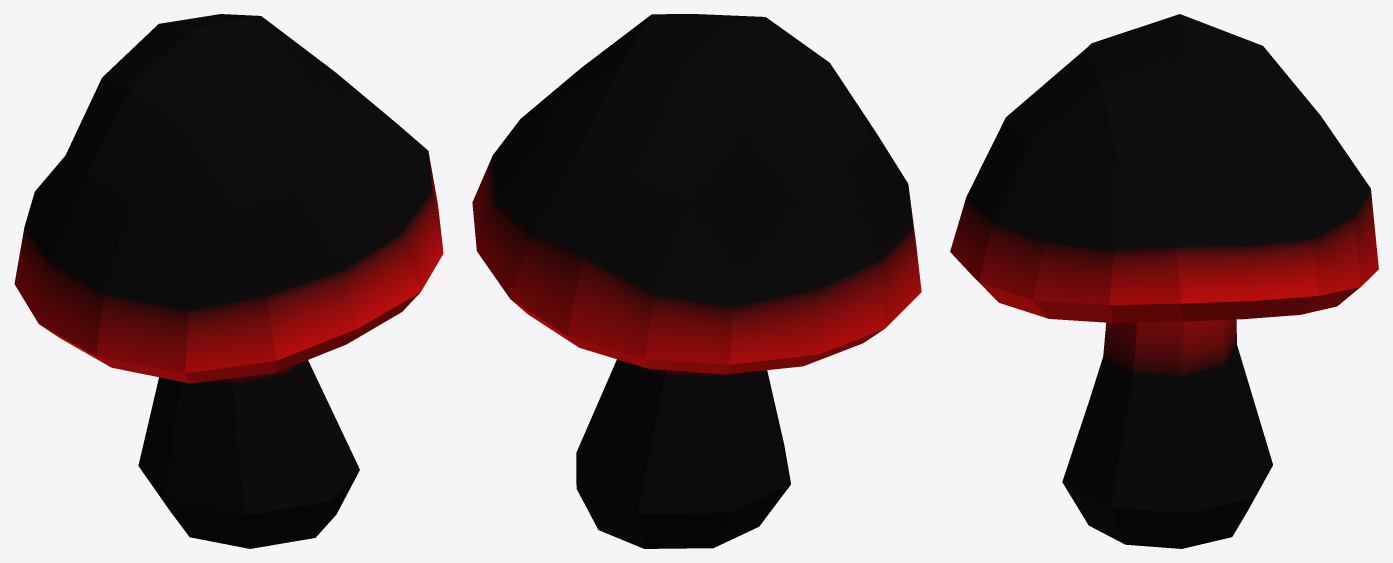
Rendered from SM_Mushroom_05.fbx.
3 renders of one model, left to right at view 1: azimuth 30°, elevation 25°; view 2: azimuth 150°, elevation 25°; view 3: azimuth 270°, elevation 25°, orthographic. The views are drawn at different scales.
Visible parts, largest first — view 1: SM_Mushroom_05; view 2: SM_Mushroom_05; view 3: SM_Mushroom_05.
Part boxes in pixels (x1,y1,x2,y2): SM_Mushroom_05: (14, 14, 443, 548); SM_Mushroom_05: (472, 14, 921, 548); SM_Mushroom_05: (950, 14, 1378, 548).
Bounding box in the file's own units: 22.93 × 28.96 × 23.55.
